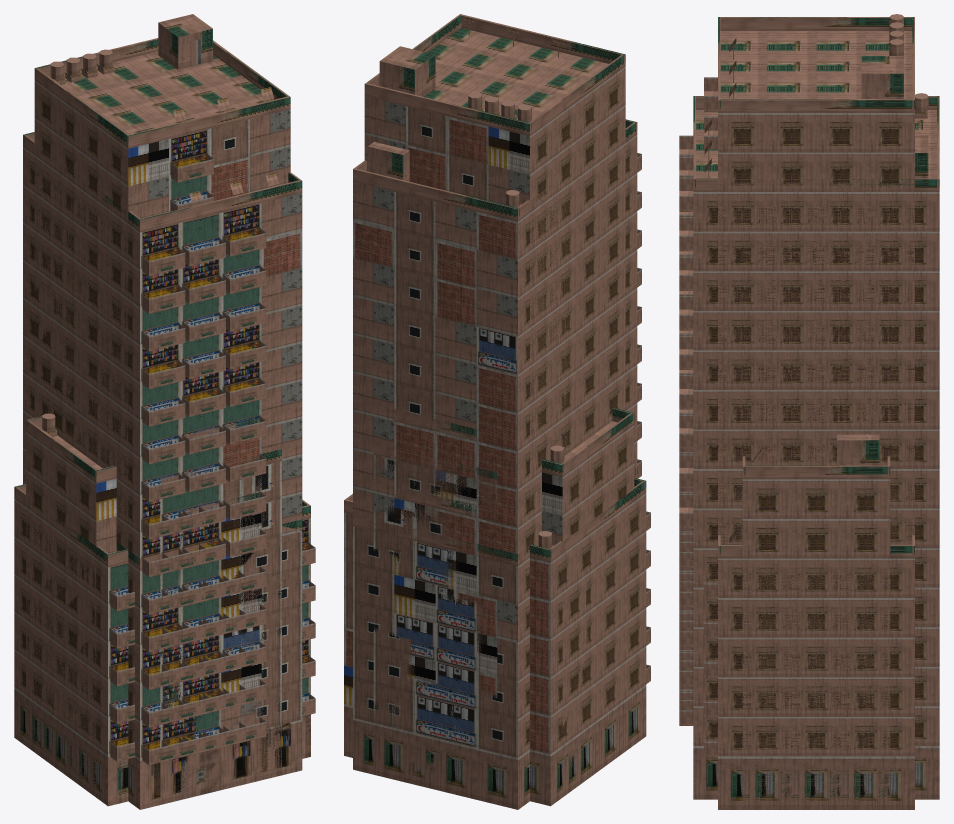
3 views of the same model, side by side, from view 1: azimuth 30°, elevation 25°; view 2: azimuth 150°, elevation 25°; view 3: azimuth 270°, elevation 25° (orthographic). The views are drawn at different scales.
Visible parts, largest first — view 1: Plaster_4x5_f14_v1, Plaster_4x4_f16_v0, Plaster_5x4_f5_v1, Plaster_5x3_f7_v1, Plaster_4x5_f5_v1, Plaster_2x5_f6_v0, Plaster_3x5_f5_v1, Plaster_3x5_f7_v1, Plaster_2x5_f8_v1; view 2: Plaster_4x5_f14_v1, Plaster_4x4_f16_v0, Plaster_5x4_f5_v1, Plaster_4x5_f5_v1, Plaster_2x5_f6_v0, Plaster_3x5_f5_v1, Plaster_5x3_f7_v1, Plaster_2x5_f8_v1, Plaster_3x5_f7_v1; view 3: Plaster_4x4_f16_v0, Plaster_4x5_f14_v1, Plaster_5x3_f7_v1, Plaster_5x4_f5_v1, Plaster_4x5_f5_v1, Plaster_3x5_f5_v1.
Boxes of the visible parts, bbox=[...] form: Plaster_4x5_f14_v1: bbox=[23, 132, 302, 577]; Plaster_4x4_f16_v0: bbox=[34, 14, 290, 549]; Plaster_5x4_f5_v1: bbox=[14, 484, 315, 806]; Plaster_5x3_f7_v1: bbox=[26, 413, 116, 796]; Plaster_4x5_f5_v1: bbox=[23, 474, 302, 809]; Plaster_2x5_f6_v0: bbox=[180, 491, 261, 799]; Plaster_3x5_f5_v1: bbox=[160, 535, 281, 804]; Plaster_3x5_f7_v1: bbox=[160, 449, 281, 572]; Plaster_2x5_f8_v1: bbox=[180, 416, 261, 529]; Plaster_4x5_f14_v1: bbox=[353, 119, 641, 565]; Plaster_4x4_f16_v0: bbox=[364, 14, 625, 543]; Plaster_5x4_f5_v1: bbox=[344, 478, 650, 806]; Plaster_4x5_f5_v1: bbox=[353, 467, 637, 809]; Plaster_2x5_f6_v0: bbox=[394, 489, 476, 799]; Plaster_3x5_f5_v1: bbox=[373, 530, 497, 784]; Plaster_5x3_f7_v1: bbox=[542, 408, 634, 796]; Plaster_2x5_f8_v1: bbox=[394, 409, 476, 517]; Plaster_3x5_f7_v1: bbox=[373, 442, 497, 549]; Plaster_4x4_f16_v0: bbox=[704, 14, 914, 544]; Plaster_4x5_f14_v1: bbox=[679, 93, 939, 547]; Plaster_5x3_f7_v1: bbox=[742, 434, 890, 809]; Plaster_5x4_f5_v1: bbox=[704, 529, 914, 809]; Plaster_4x5_f5_v1: bbox=[679, 533, 939, 799]; Plaster_3x5_f5_v1: bbox=[679, 528, 693, 710].
Bounding box in the file's own units: 17.5 × 56.5 × 18.5.
1 material, 1 textured.
